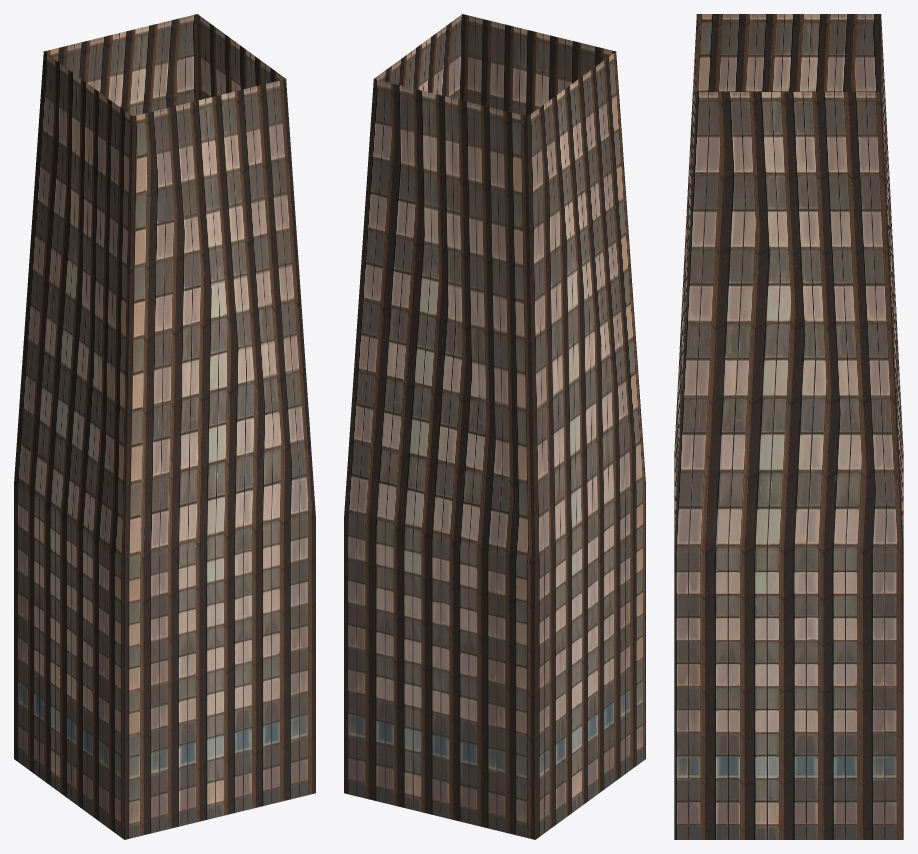
The model's file is Edificio1.fbx.
The picture shows the model from 3 angles, left to right: view 1: azimuth 30°, elevation 25°; view 2: azimuth 150°, elevation 25°; view 3: azimuth 270°, elevation 25°; orthographic projection. The views are drawn at different scales.
Parts seen in each view (by area): view 1: Cube; view 2: Cube; view 3: Cube.
Boxes of the visible parts, x1,y1,x2,y2 form: Cube: (14, 14, 315, 839); Cube: (344, 14, 645, 839); Cube: (674, 14, 903, 839).
Size of the model in its own units: 200 by 710 by 200.
